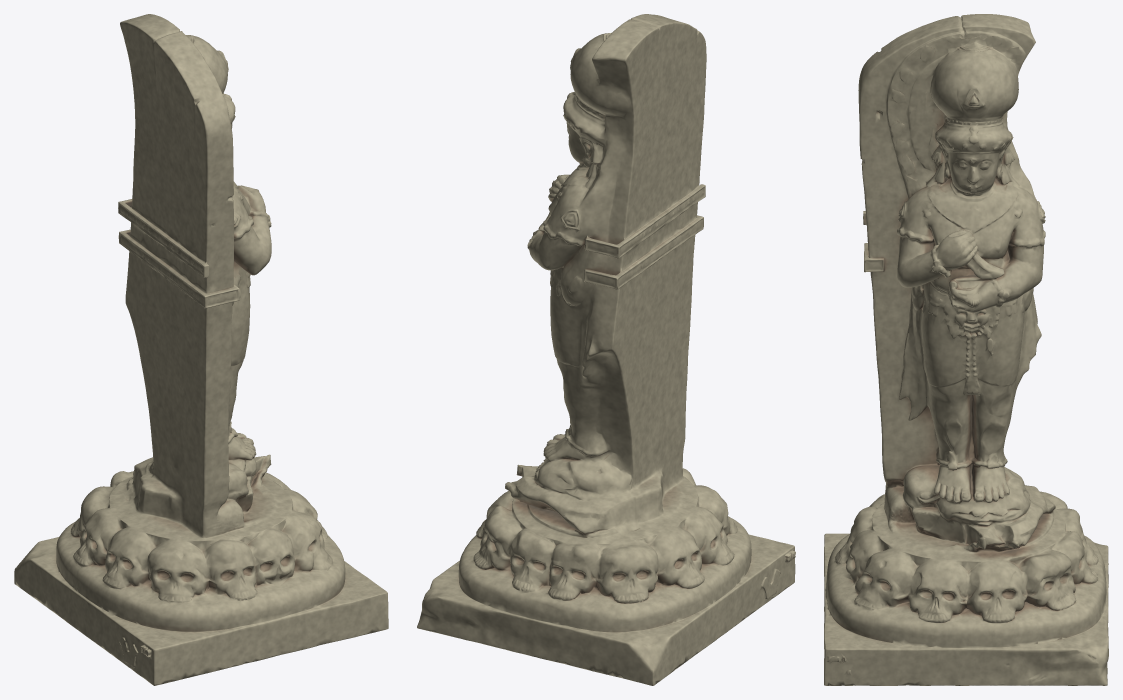
The model's file is Bhairava_Buddha.glb.
3 renders of one model, left to right at view 1: azimuth 30°, elevation 25°; view 2: azimuth 150°, elevation 25°; view 3: azimuth 270°, elevation 25°, orthographic.
Visible parts, largest first — view 1: tripo_node_32bde73a-3141-400d-b826-7c7a7aec05b2; view 2: tripo_node_32bde73a-3141-400d-b826-7c7a7aec05b2; view 3: tripo_node_32bde73a-3141-400d-b826-7c7a7aec05b2.
Boxes of the visible parts, x1,y1,x2,y2 form: tripo_node_32bde73a-3141-400d-b826-7c7a7aec05b2: (14,14,388,685); tripo_node_32bde73a-3141-400d-b826-7c7a7aec05b2: (417,14,795,685); tripo_node_32bde73a-3141-400d-b826-7c7a7aec05b2: (824,14,1108,685).
Size of the model in its own units: 0.4194 by 0.9795 by 0.4279.
1 material, 1 textured.
